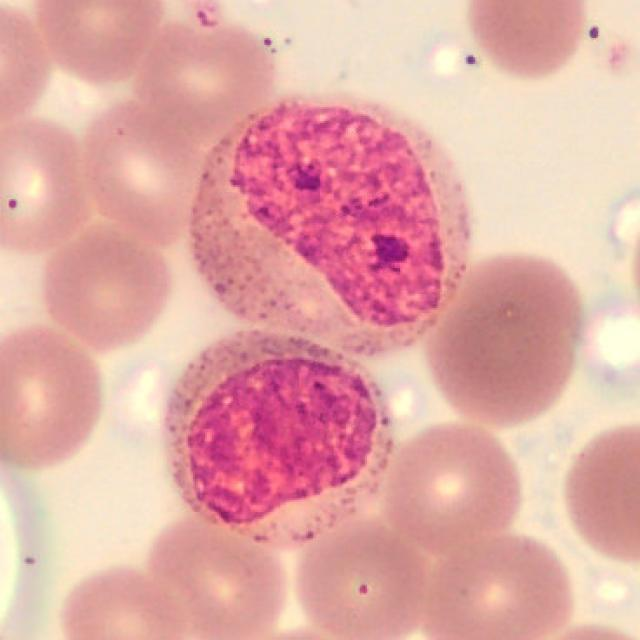Metamielocito: (163, 332, 395, 550)
Mielocito: (190, 97, 473, 358)
